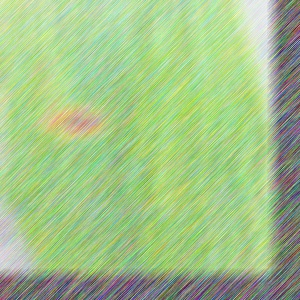Bacterial_Leaf_Blight: (38, 103, 106, 140), (30, 144, 49, 155)
